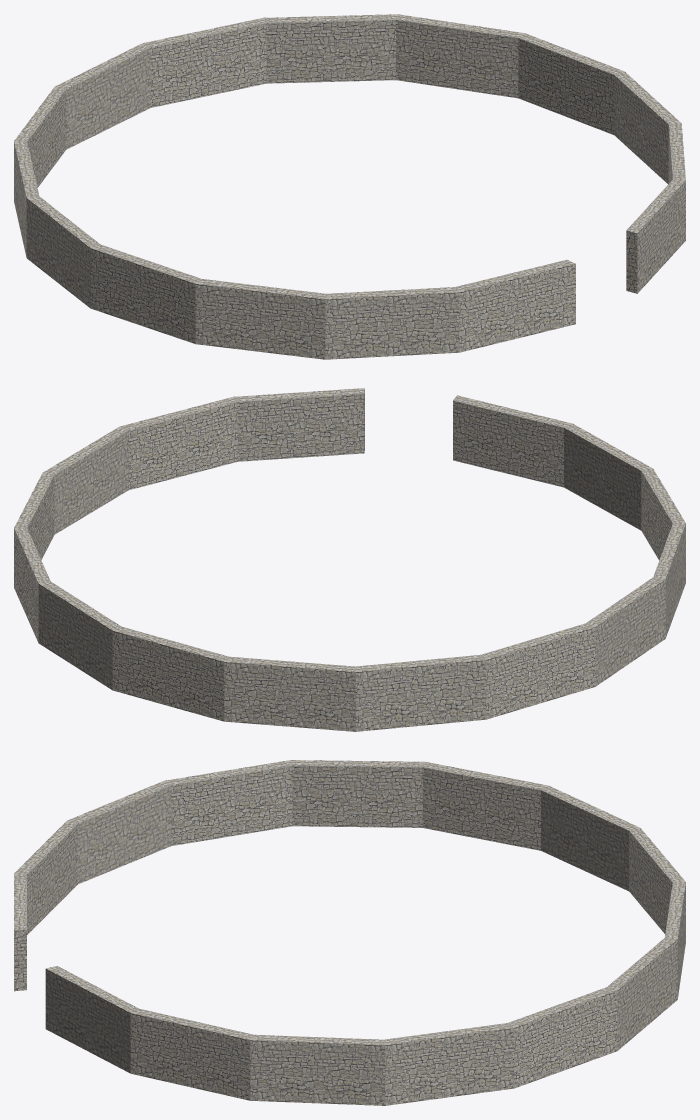
The model's file is circle_wall.obj.
3 renders of one model, top to bottom at view 1: azimuth 30°, elevation 25°; view 2: azimuth 150°, elevation 25°; view 3: azimuth 270°, elevation 25°, orthographic.
Visible parts, largest first — view 1: Cube; view 2: Cube; view 3: Cube.
Boxes of the visible parts, <box> form: Cube: <box>14,14,685,359</box>; Cube: <box>14,388,685,731</box>; Cube: <box>14,760,685,1105</box>.
Size of the model in its own units: 40.33 by 4 by 40.15.
